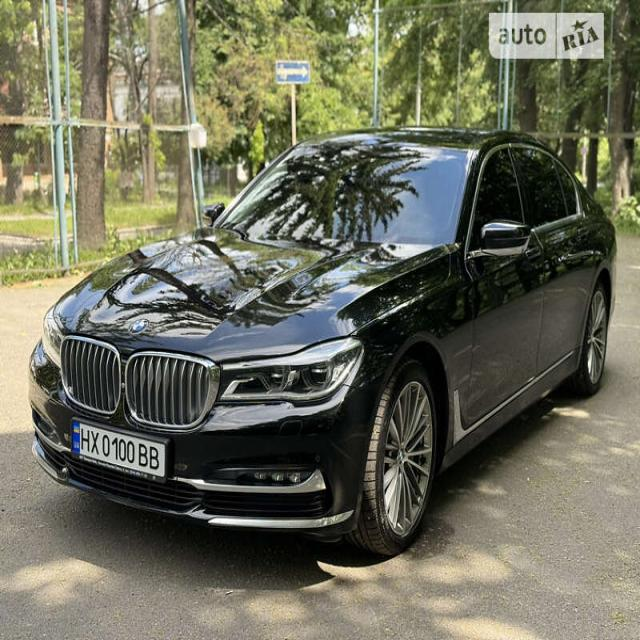plate: (69, 417, 170, 485)
